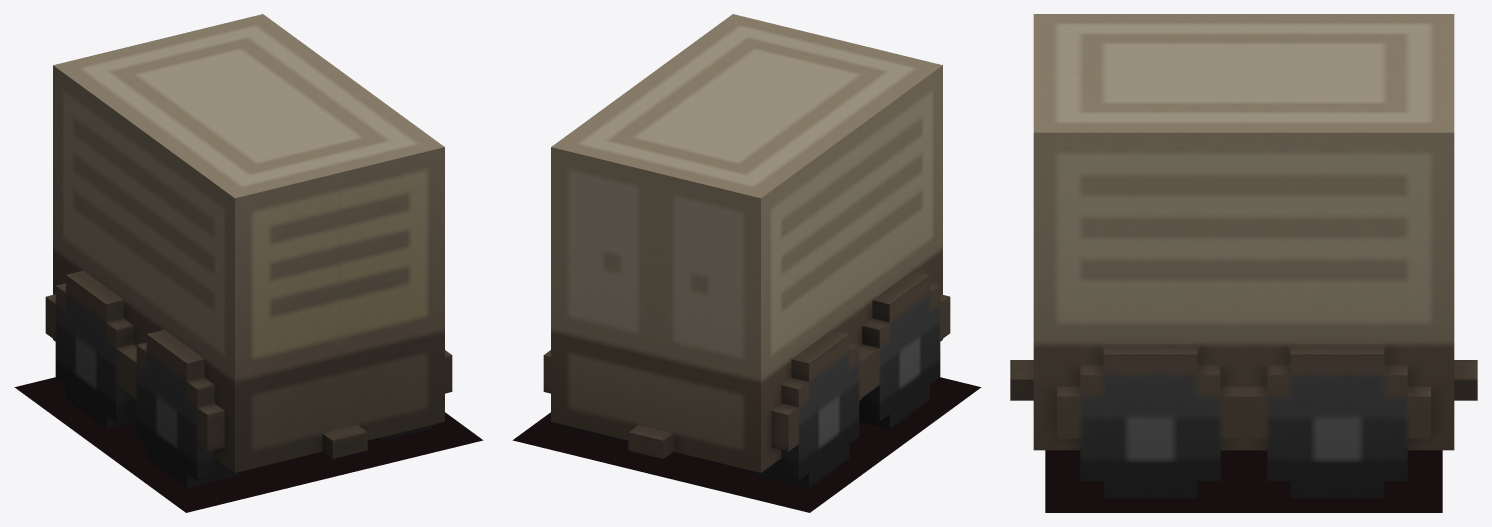
File: truck_body.FBX
3 views of the same model, side by side, from view 1: azimuth 30°, elevation 25°; view 2: azimuth 150°, elevation 25°; view 3: azimuth 270°, elevation 25° (orthographic). The views are drawn at different scales.
Parts seen in each view (by area): view 1: truck_body, truck_body_soft_shadow; view 2: truck_body, truck_body_soft_shadow; view 3: truck_body, truck_body_soft_shadow.
Boxes of the visible parts, x1,y1,x2,y2 form: truck_body: (45,14,452,487); truck_body_soft_shadow: (14,377,483,512); truck_body: (543,14,950,487); truck_body_soft_shadow: (512,377,981,512); truck_body: (1010,14,1477,498); truck_body_soft_shadow: (1045,450,1442,512).
Size of the model in its own units: 850 by 850 by 1000.
